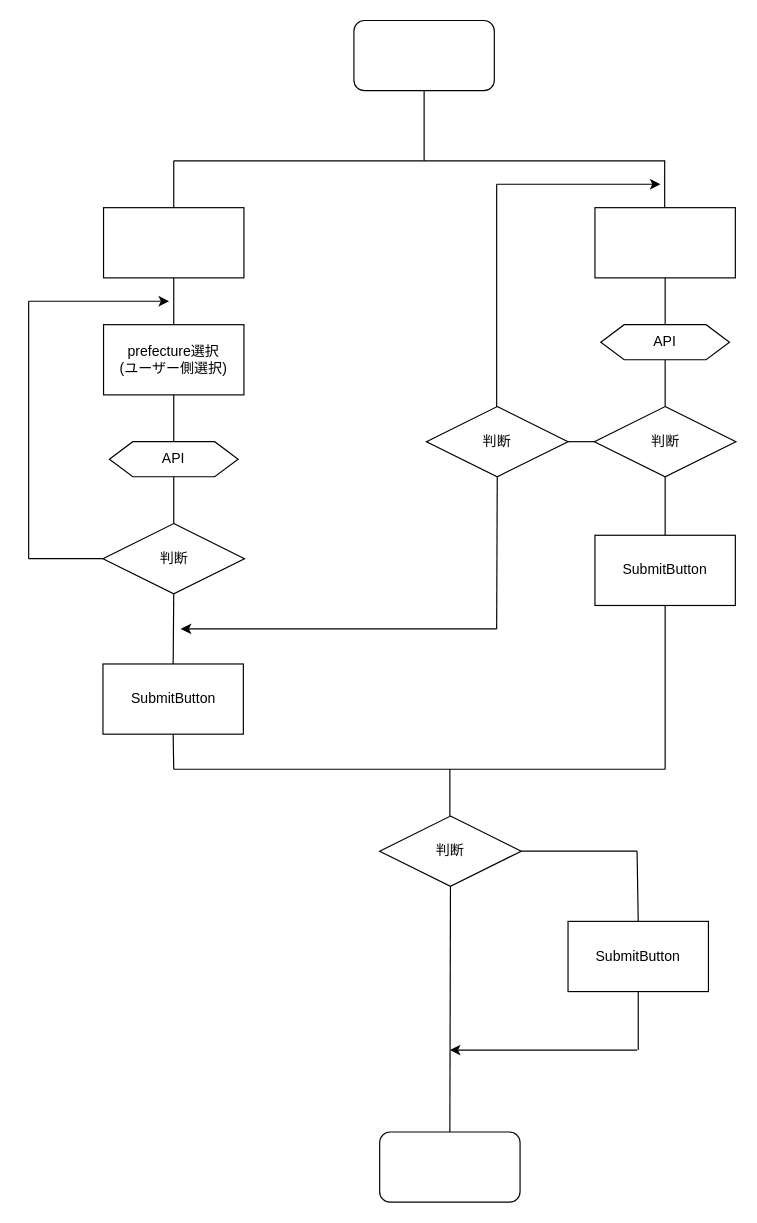
Image size: 757x1223. Some labels were removed from this diagram. The shapes that lost their labels are listed below. From the top down, each one's centre as x and y in pixels, then its label:
At (423,55): "NextCard3".
At (173,242): "addressBox 記述なしVer".
At (664,242): "addressBox 記述有りVer".
At (449,1166): "NextCard4".
